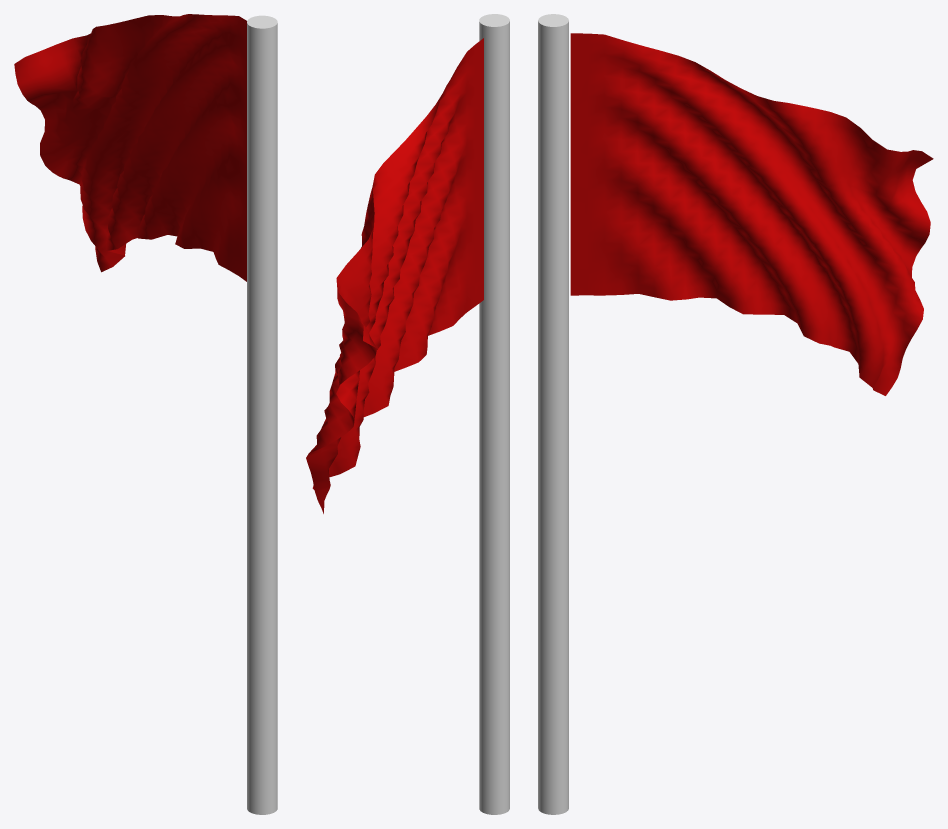
The model's file is Hypothesis_6_hero_4_flag.fbx.
The picture shows the model from 3 angles, left to right: view 1: azimuth 30°, elevation 25°; view 2: azimuth 150°, elevation 25°; view 3: azimuth 270°, elevation 25°; orthographic projection.
Visible parts, largest first — view 1: pPlane1, pCylinder1; view 2: pPlane1, pCylinder1; view 3: pPlane1, pCylinder1.
Boxes of the visible parts, box(x1,y1,x2,y2) form: pPlane1: box(14, 14, 246, 281); pCylinder1: box(247, 15, 277, 814); pPlane1: box(306, 38, 483, 513); pCylinder1: box(479, 14, 509, 814); pPlane1: box(570, 33, 933, 395); pCylinder1: box(538, 14, 568, 814).
Size of the model in its own units: 0.6442 by 5.62 by 2.56.
